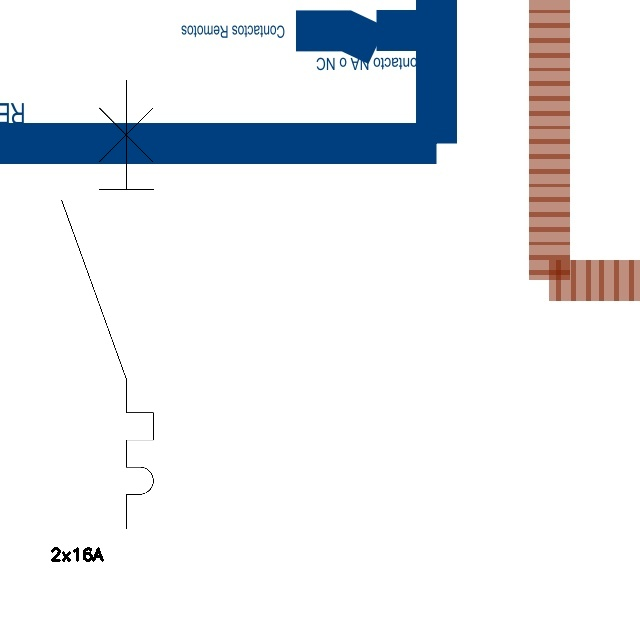interruptor_termomagnetico: (50, 69, 165, 540)
